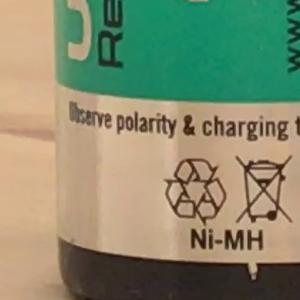NI-MH: (181, 220, 273, 260)
